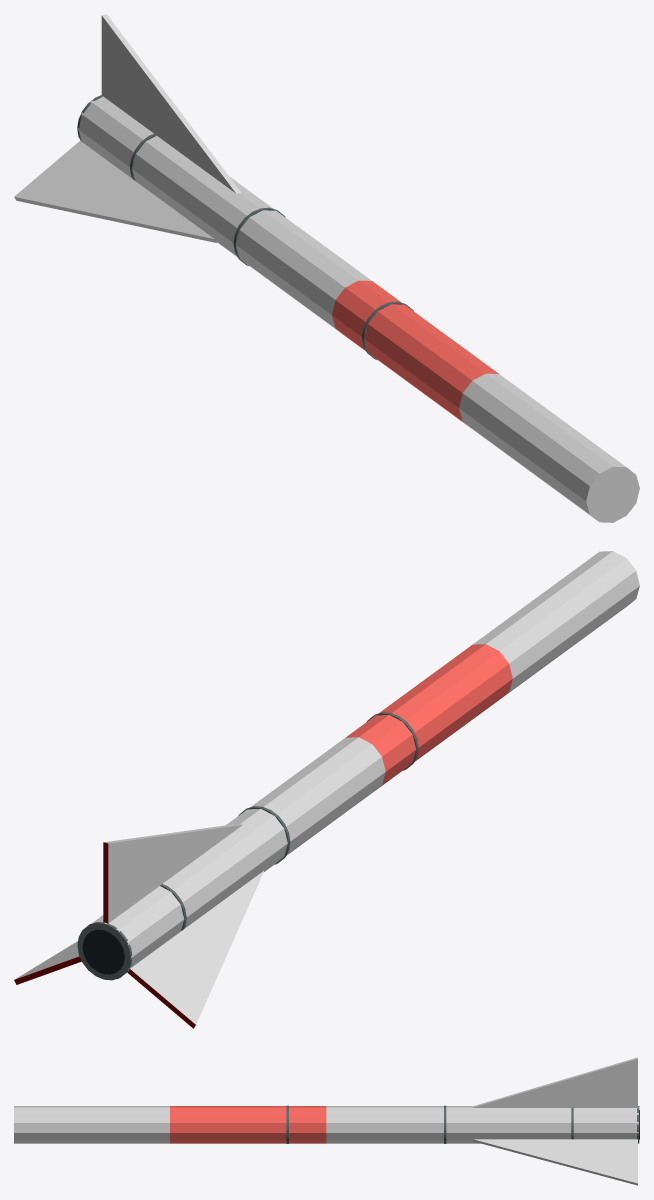
The model's file is MISSILE.glb.
3 renders of one model, top to bottom at view 1: azimuth 30°, elevation 25°; view 2: azimuth 150°, elevation 25°; view 3: azimuth 270°, elevation 25°, orthographic. The views are drawn at different scales.
Parts seen in each view (by area): view 1: MISSILE | archived geometry, MISSILE | projectile casing seams and tail outlet; view 2: MISSILE | archived geometry, MISSILE | projectile casing seams and tail outlet; view 3: MISSILE | archived geometry, MISSILE | projectile casing seams and tail outlet.
Boxes of the visible parts, box(x1,y1,x2,y2) form: MISSILE | archived geometry: box(14, 14, 639, 522); MISSILE | projectile casing seams and tail outlet: box(77, 95, 413, 360); MISSILE | archived geometry: box(14, 551, 639, 1028); MISSILE | projectile casing seams and tail outlet: box(77, 712, 418, 980); MISSILE | archived geometry: box(14, 1057, 638, 1185); MISSILE | projectile casing seams and tail outlet: box(286, 1105, 639, 1143).
Size of the model in its own units: 0.8522 by 0.7361 by 4.13.
